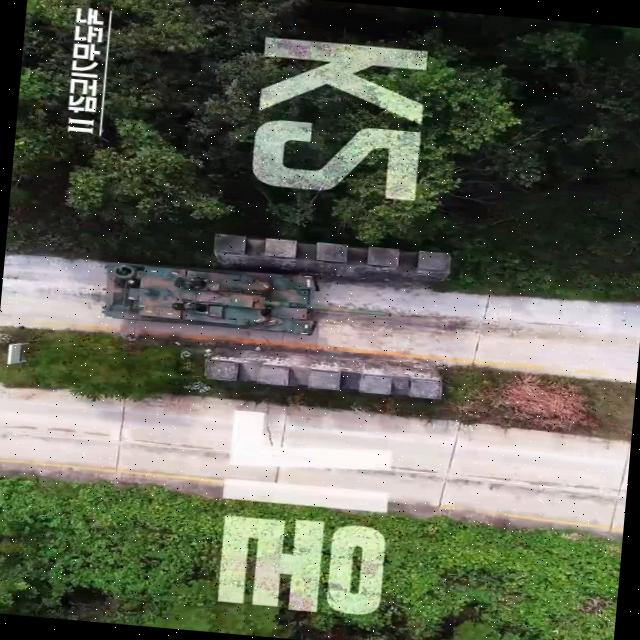korea tank: (98, 254, 396, 346)
